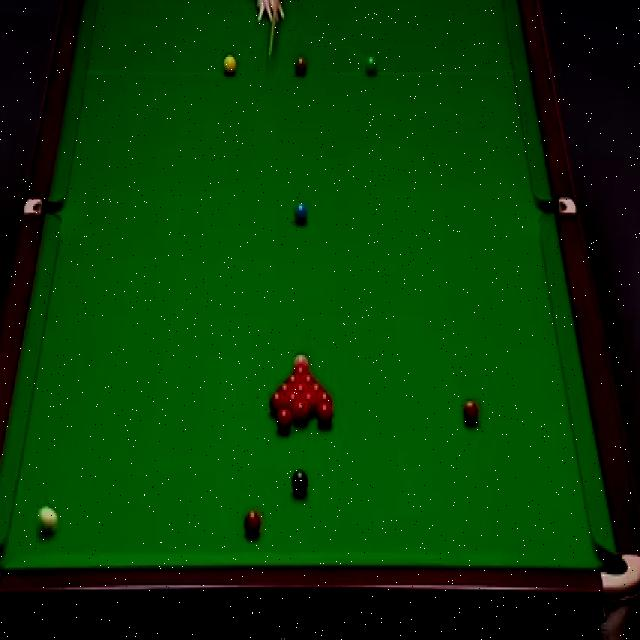black-ball: (292, 468, 308, 497)
blue-ball: (293, 202, 308, 222)
brown-ball: (293, 57, 308, 75)
green-ball: (364, 52, 379, 78)
pink-ball: (293, 354, 310, 372)
red-ball: (462, 398, 481, 427), (315, 402, 335, 427), (242, 511, 262, 535), (269, 390, 287, 416), (276, 408, 293, 431), (293, 400, 309, 423), (300, 392, 318, 412), (316, 392, 333, 412), (277, 380, 294, 396), (293, 381, 309, 397), (308, 381, 325, 396), (287, 393, 299, 414), (286, 372, 302, 387), (300, 371, 315, 387)
white-ball: (38, 504, 57, 534)
yellow-ball: (222, 54, 237, 76)
